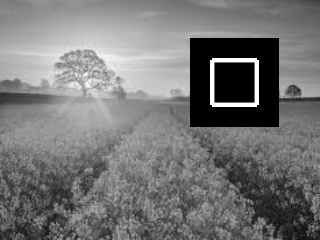square: (190, 38, 279, 127)
